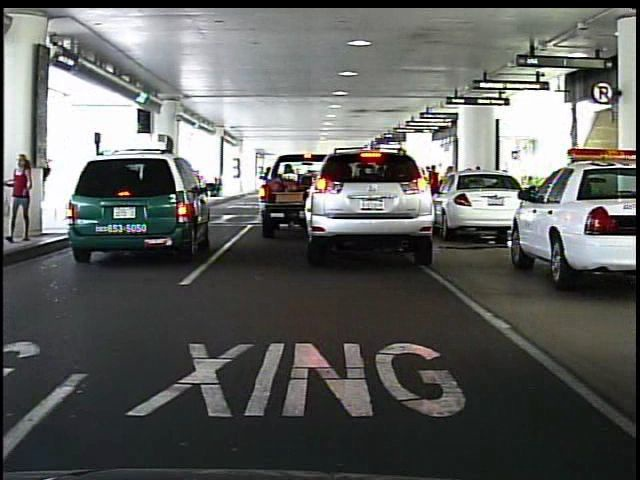person: (12, 150, 44, 248)
